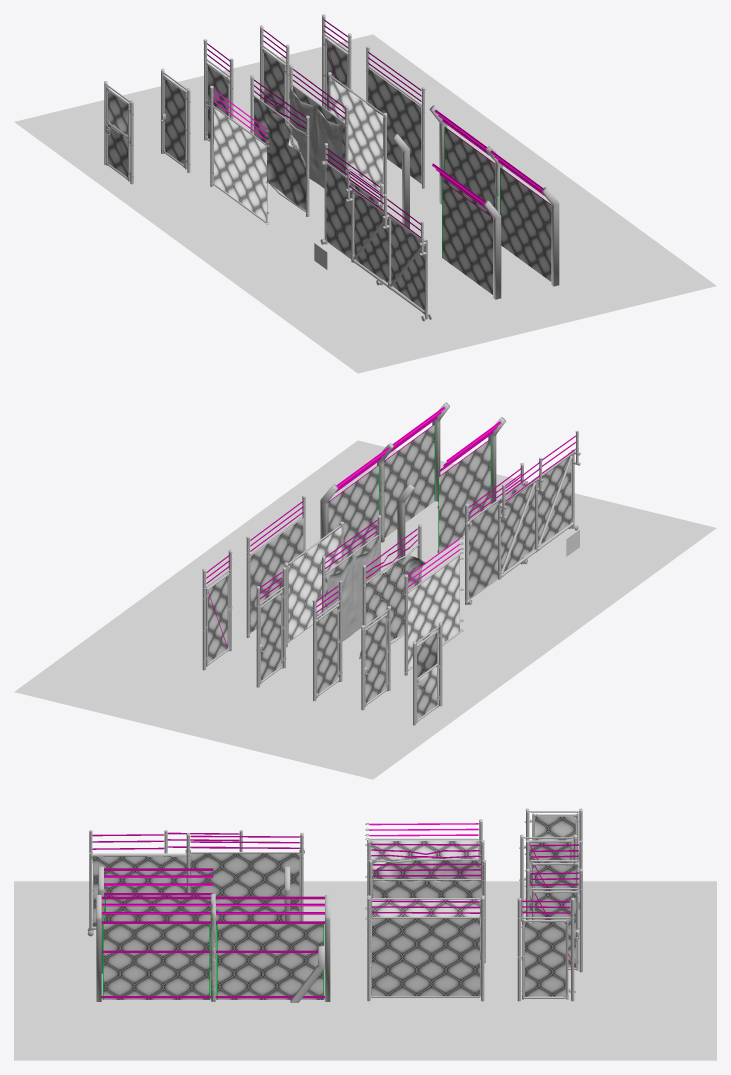
The model's file is showcase_fences1.fbx.
The picture shows the model from 3 angles, top to bottom: view 1: azimuth 30°, elevation 25°; view 2: azimuth 150°, elevation 25°; view 3: azimuth 270°, elevation 25°; orthographic projection. The views are drawn at different scales.
Visible parts, largest first — view 1: Cube, Plane001, tejido001, Box001.002, Plane001.001, mwtal_fence_2.003, metal_fence_1a.001, tejido, lona, tejido.003, Cylinder048, tejido.004 (+18 smaller); view 2: Cube, Plane001, tejido001, Plane001.001, Box001.002, mwtal_fence_2.003, tejido, metal_fence_1a.001, lona, Cylinder048, tejido.003, Object001.002 (+13 smaller); view 3: Cube, Plane001, tejido, tejido.003, Plane011, Plane.002, tejido001, Plane001.001, tejido.001, Box001.002, metal_fence_1a.001, Cylinder084 (+21 smaller).
Part boxes in pixels (x1,y1,x2,y2): Cube: [14, 34, 716, 373]; Plane001: [445, 128, 551, 281]; tejido001: [355, 193, 424, 309]; Box001.002: [214, 108, 267, 221]; Plane001.001: [442, 182, 492, 294]; mwtal_fence_2.003: [330, 77, 383, 189]; metal_fence_1a.001: [254, 97, 305, 210]; tejido: [368, 68, 421, 182]; lona: [289, 87, 343, 188]; tejido.003: [326, 164, 379, 277]; Cylinder048: [345, 167, 429, 319]; tejido.004: [165, 79, 184, 165]; Cube: [14, 440, 716, 779]; Plane001: [328, 425, 434, 559]; tejido001: [501, 456, 571, 571]; Plane001.001: [439, 440, 490, 552]; Box001.002: [408, 556, 459, 668]; mwtal_fence_2.003: [288, 527, 341, 641]; tejido: [250, 518, 303, 632]; metal_fence_1a.001: [359, 555, 425, 659]; lona: [326, 537, 380, 641]; Cylinder048: [498, 430, 580, 579]; tejido.003: [469, 484, 522, 598]; Object001.002: [317, 608, 337, 693]; Cube: [14, 881, 716, 1060]; Plane001: [103, 924, 323, 999]; tejido: [371, 918, 480, 996]; tejido.003: [190, 853, 299, 930]; Plane011: [101, 896, 324, 998]; Plane.002: [524, 922, 565, 996]; tejido001: [93, 856, 190, 926]; Plane001.001: [106, 895, 210, 970]; tejido.001: [373, 881, 481, 958]; Box001.002: [370, 841, 478, 875]; metal_fence_1a.001: [372, 859, 480, 897]; Cylinder084: [517, 897, 575, 1001].
Bounding box in the file's own units: 944 × 255 × 1566.
